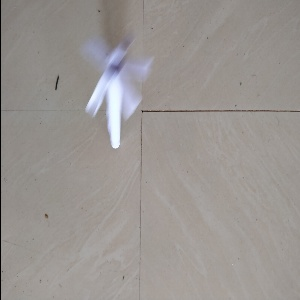weed: (84, 40, 149, 148)
